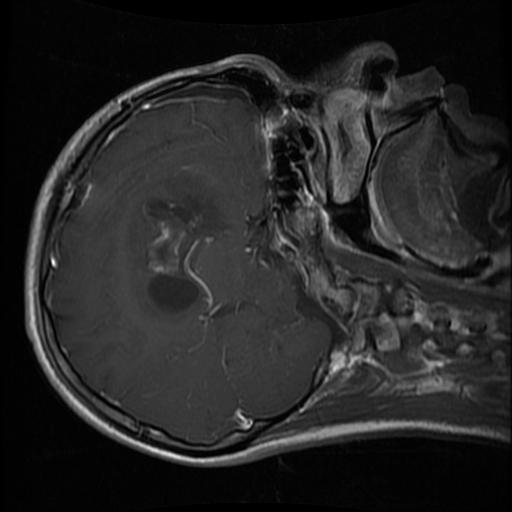glioma: (143, 194, 221, 319)
